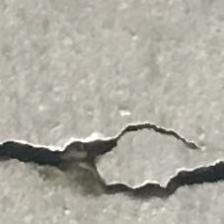Crack: (0, 101, 224, 215)
